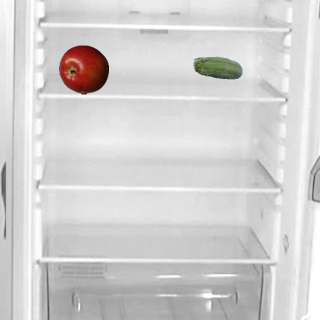Apple Braeburn: (58, 44, 108, 94)
Corn Husk: (192, 44, 242, 94)
